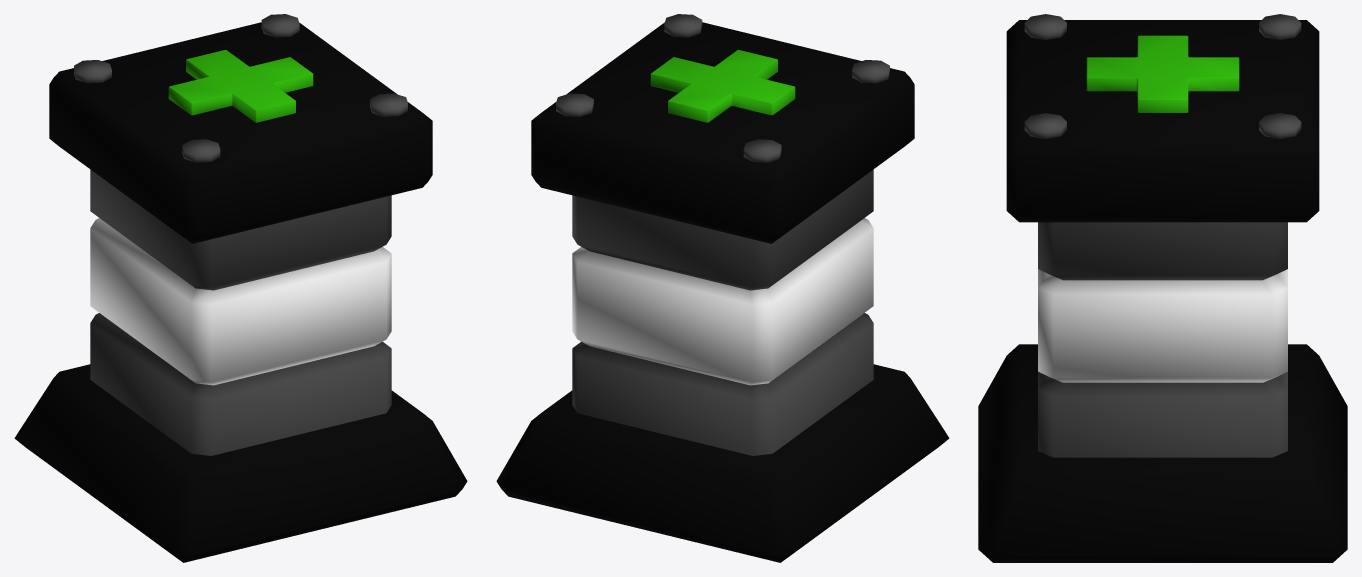
The model's file is Interactor_Itembox_HP.fbx.
3 views of the same model, side by side, from view 1: azimuth 30°, elevation 25°; view 2: azimuth 150°, elevation 25°; view 3: azimuth 270°, elevation 25° (orthographic). The views are drawn at different scales.
Visible parts, largest first — view 1: ItemBox; view 2: ItemBox; view 3: ItemBox.
Part boxes in pixels (x1,y1,x2,y2): ItemBox: (14, 14, 467, 562); ItemBox: (496, 14, 949, 562); ItemBox: (978, 14, 1347, 562).
Bounding box in the file's own units: 104 × 132 × 104.
